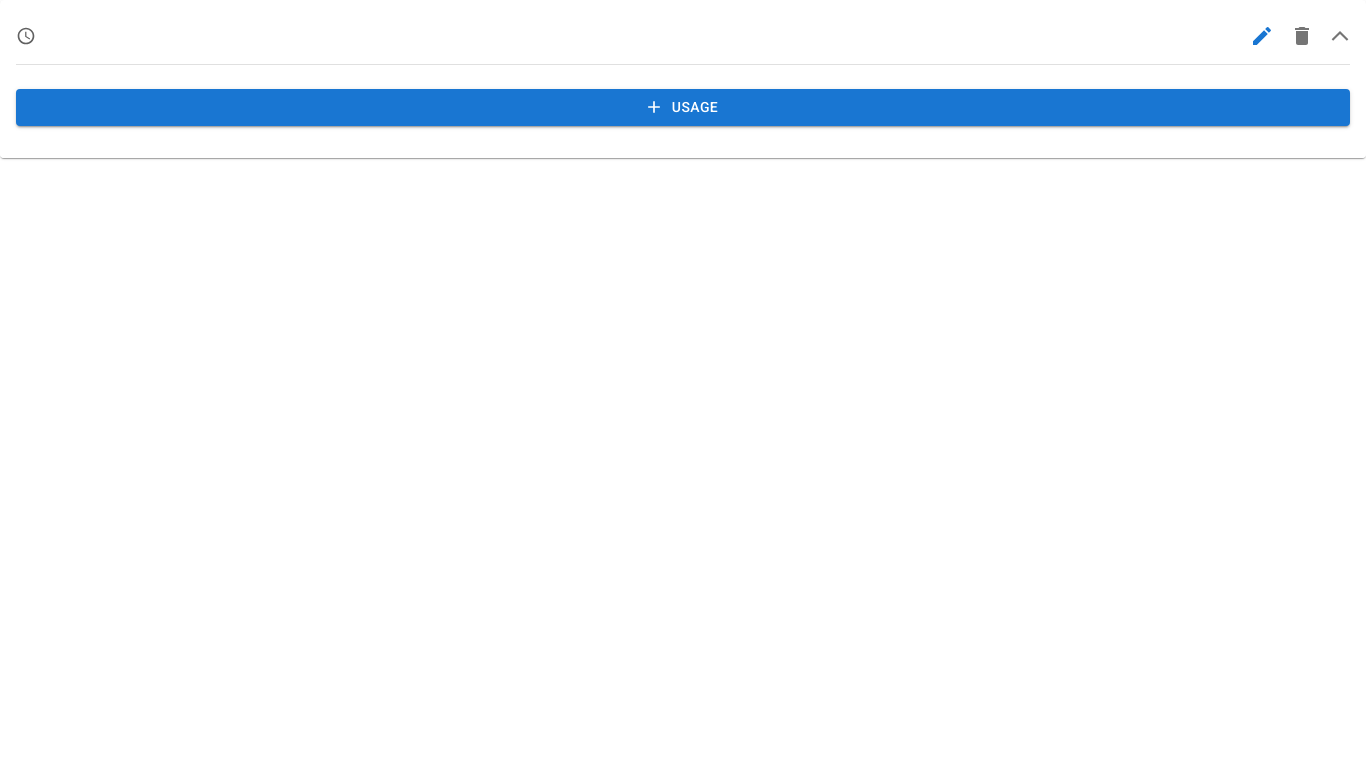
Test: modal window is shown on click on reset button
Click the button with test id "editConfig" at (1262, 36), box [1242,16,1282,56]
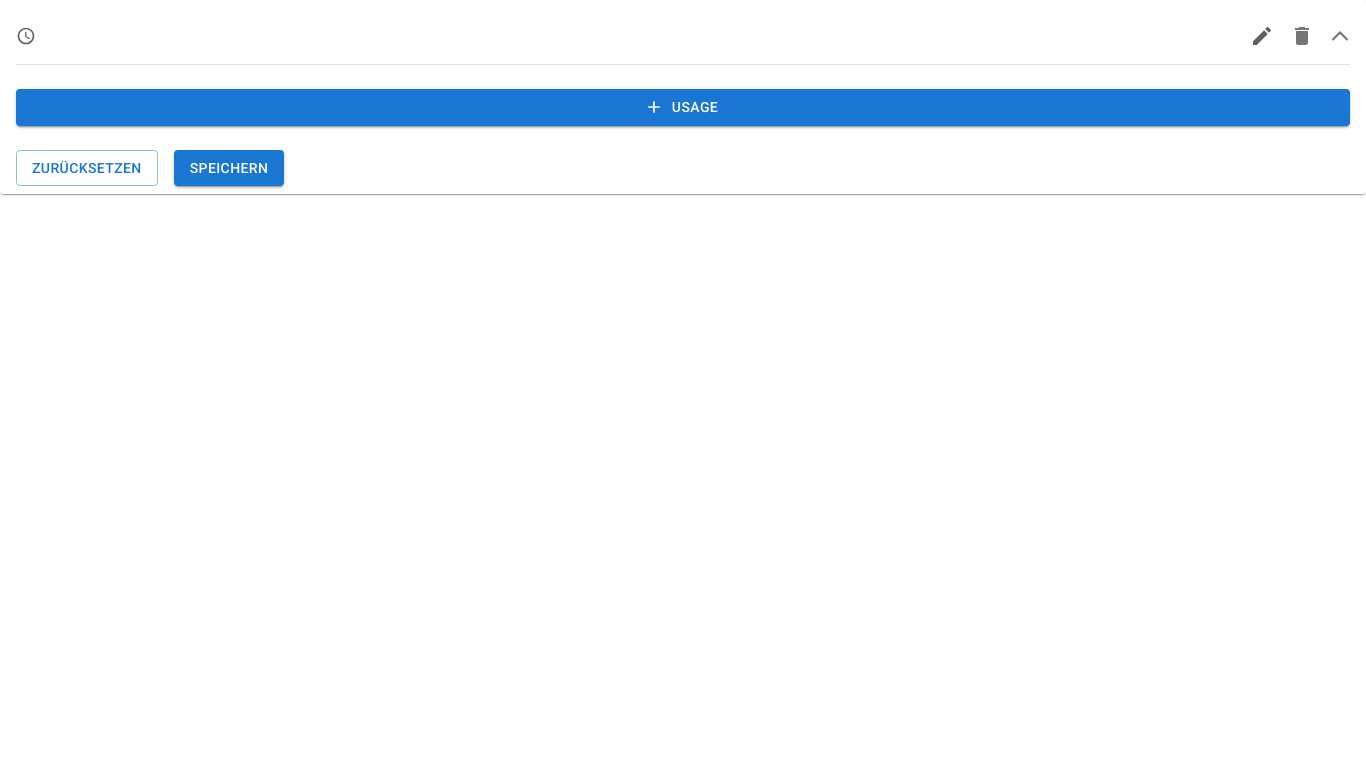
Click the button with test id "resetForm" at (87, 168), box [16,150,158,186]
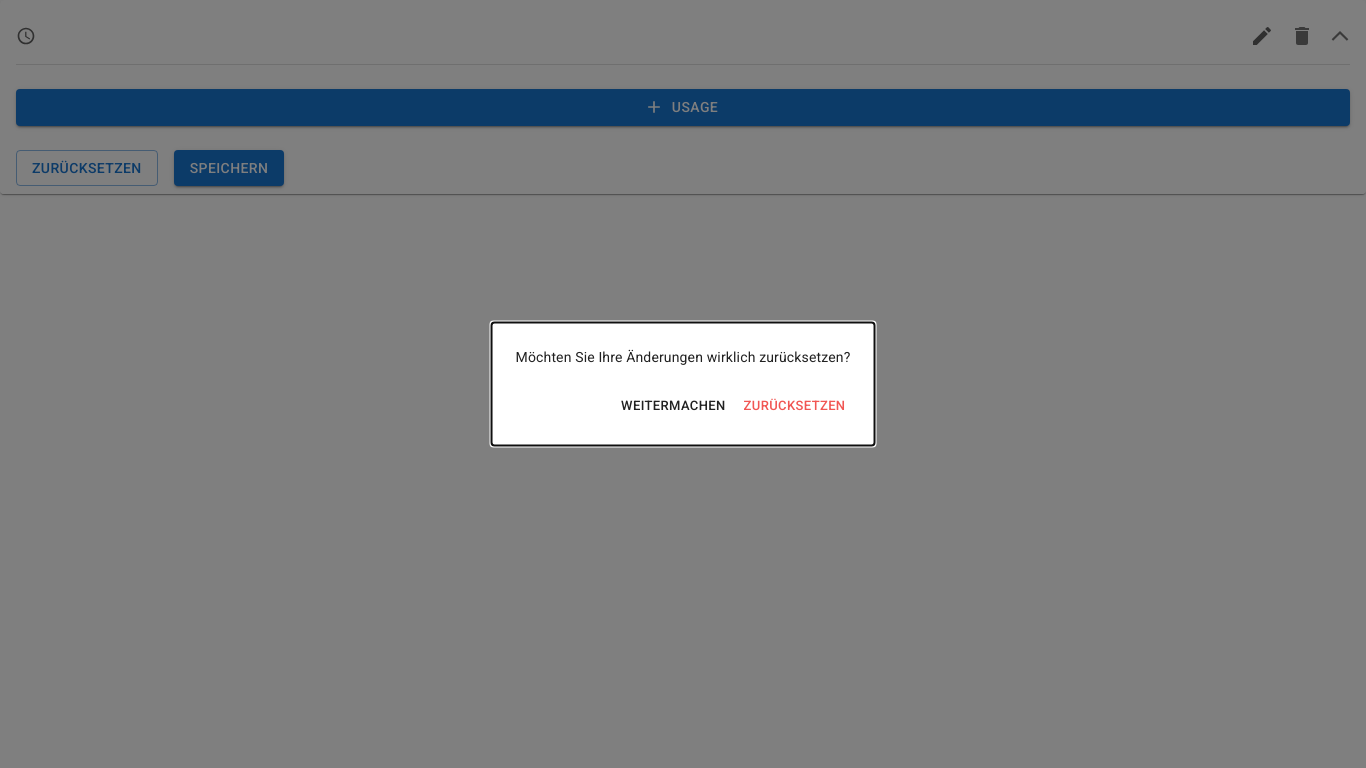
expect the text "Möchten Sie Ihre Änderungen wirklich zurücksetzen?" is shown: met, box [516,347,850,367]
